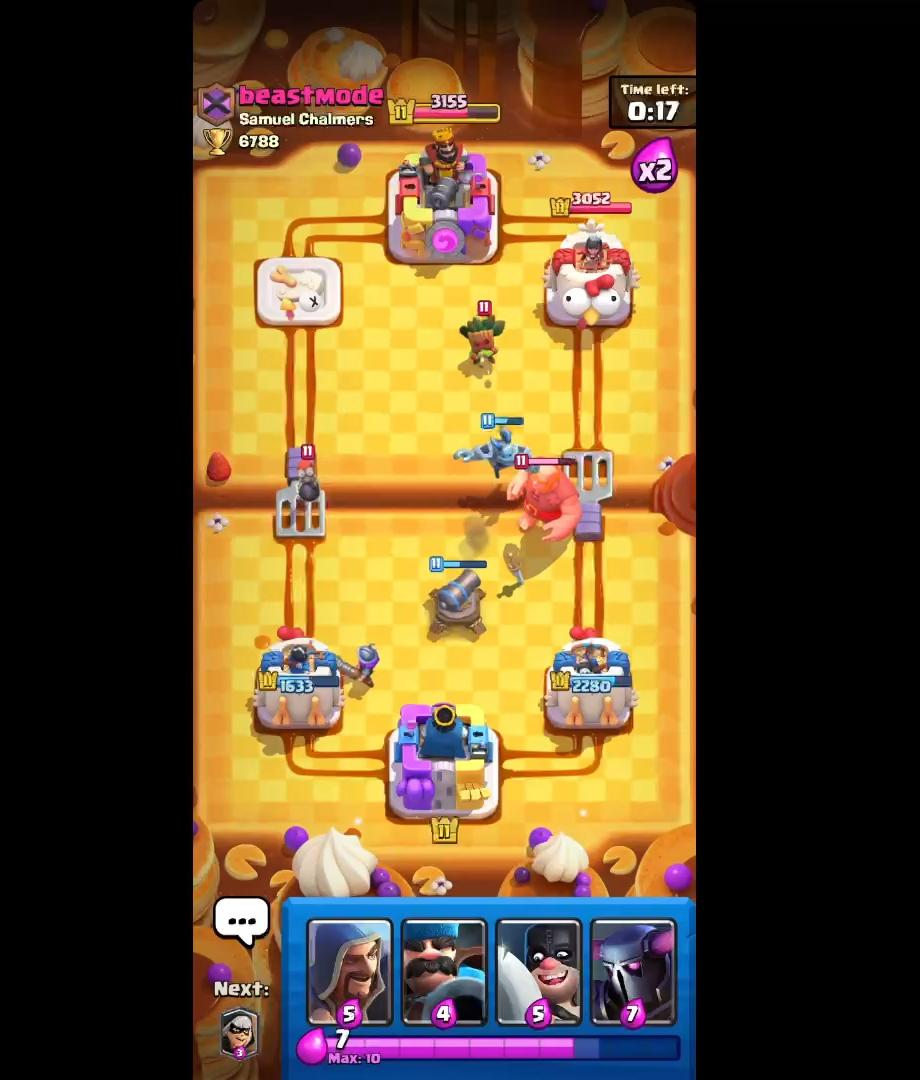Dart Goblin: (452, 297, 509, 378)
Giant: (507, 455, 580, 539)
